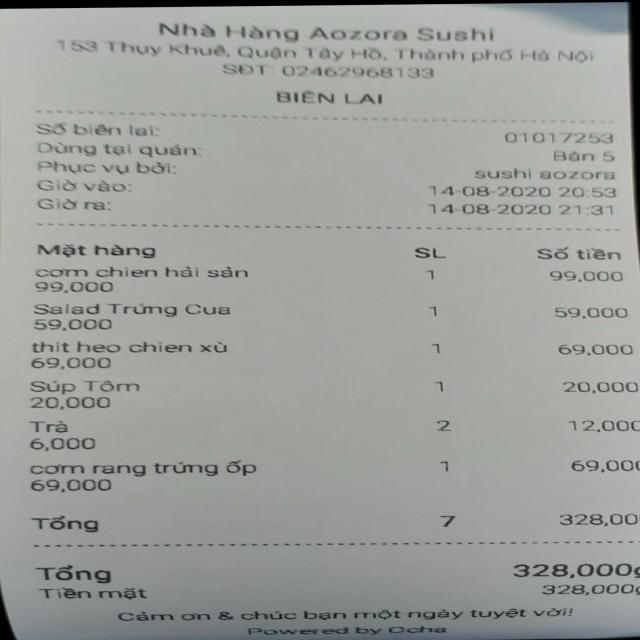Date: (419, 181, 551, 202)
Store_Name: (158, 14, 506, 49)
Total_Amount: (25, 553, 635, 584)
